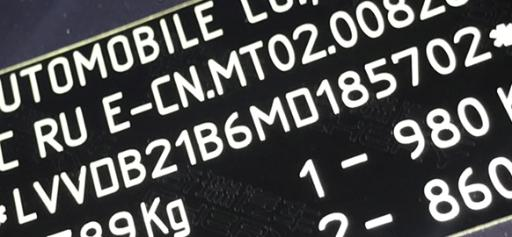letter: (248, 94, 292, 143), (453, 22, 497, 70), (282, 84, 326, 127), (31, 171, 71, 218), (390, 43, 428, 92), (362, 54, 398, 101), (144, 135, 180, 181), (87, 154, 123, 200), (60, 162, 94, 210), (422, 33, 458, 78), (334, 68, 372, 110), (192, 119, 224, 167), (6, 185, 42, 225), (222, 109, 256, 150), (314, 76, 346, 119), (116, 146, 148, 189), (174, 126, 204, 170)
